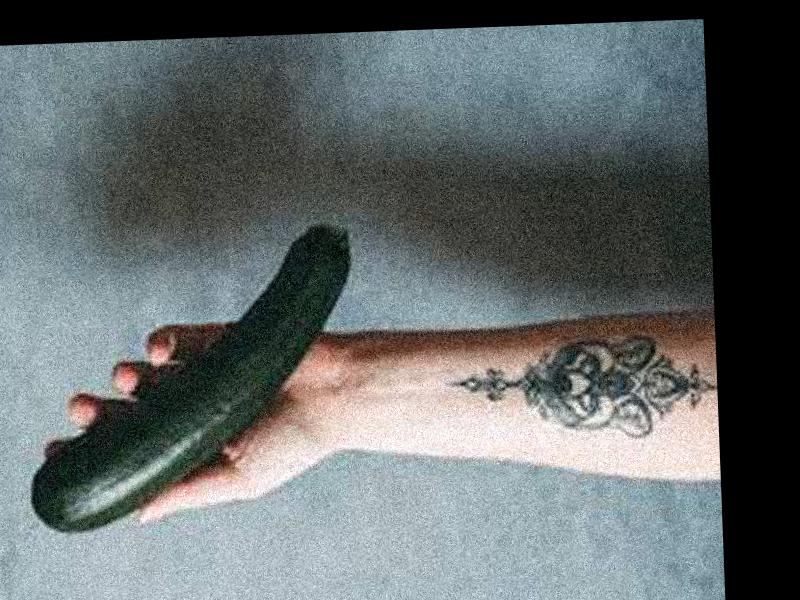Cucumber: (21, 225, 357, 532)
